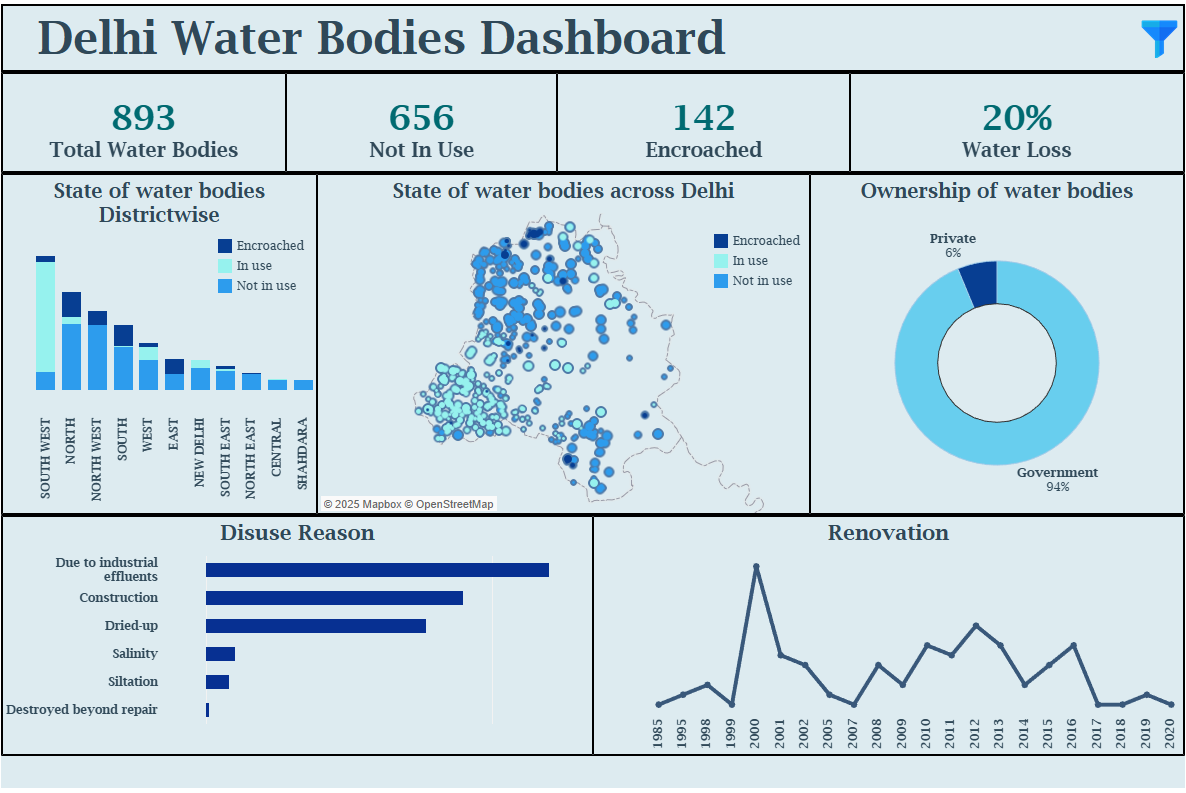

The dashboard page shown, as its layout file describes it:
{"tool":"tableau","page":{"name":"Final Dashboard","canvas":[1200,800],"ordinal":1},"visuals":[{"type":"text","box":[10,10,1180,64]},{"type":"dashboard-object","box":[1145,24,43,38]},{"type":"worksheet","title":"Total Water Bodies","mark":"Automatic","box":[9,77,284,99]},{"type":"worksheet","title":"Water bodies not in use","mark":"Automatic","box":[293,77,271,99]},{"type":"worksheet","title":"Encroached","mark":"Automatic","box":[564,77,293,99]},{"type":"worksheet","title":"Storage Loss%","mark":"Automatic","box":[857,77,334,99]},{"type":"worksheet","title":"Water Bodies Districtwise","mark":"Automatic","rows":["unique_id"],"cols":["District Name"],"box":[9,178,315,340]},{"type":"worksheet","title":"Geographic water bodies","mark":"Automatic","rows":["latitude_dec"],"cols":["longitude_dec"],"box":[324,178,493,340]},{"type":"worksheet","title":"Ownership","mark":"Pie","rows":["Calculation_828943825735376898","Calculation_828943825735376898"],"box":[817,178,374,340]},{"type":"legend","title":"Geographic water bodies","param":"[federated.06ms7qa0m6ogpw10tyopm1ws3jyo].[none:Calculation_1138003349924741132:n","box":[718,220,101,86]},{"type":"filter","title":"Water Bodies Districtwise","param":"[federated.06ms7qa0m6ogpw10tyopm1ws3jyo].[Action (Use)]","box":[1059,221,131,89]},{"type":"legend","title":"Water Bodies Districtwise","param":"[federated.06ms7qa0m6ogpw10tyopm1ws3jyo].[none:Calculation_1138003349924741132:n","box":[222,225,102,78]},{"type":"filter","title":"Water Bodies Districtwise","param":"[federated.06ms7qa0m6ogpw10tyopm1ws3jyo].[none:District Name:nk]","box":[1059,310,131,52]},{"type":"filter","title":"Water Bodies Districtwise","param":"[federated.06ms7qa0m6ogpw10tyopm1ws3jyo].[Action (Ownership)]","box":[1059,362,131,52]},{"type":"worksheet","title":"Disuse Reason","mark":"Bar","rows":["scheme_status_reason_name"],"cols":["unique_id"],"box":[9,520,583,239]},{"type":"worksheet","title":"Renovation","mark":"Automatic","rows":["unique_id"],"cols":["renovation_year"],"box":[592,520,599,239]}]}

Visuals, with their boxes in screenshot pixels (x1, y1, x2, y2), scaled from the page's 1200x800 canvas onto the 1186x793 screenshot:
text: <region>10, 10, 1176, 73</region>
dashboard-object: <region>1132, 24, 1174, 61</region>
"Total Water Bodies" worksheet: <region>9, 76, 290, 174</region>
"Water bodies not in use" worksheet: <region>290, 76, 557, 174</region>
"Encroached" worksheet: <region>557, 76, 847, 174</region>
"Storage Loss%" worksheet: <region>847, 76, 1177, 174</region>
"Water Bodies Districtwise" worksheet: <region>9, 176, 320, 513</region>
"Geographic water bodies" worksheet: <region>320, 176, 807, 513</region>
"Ownership" worksheet (Pie marks): <region>807, 176, 1177, 513</region>
"Geographic water bodies" legend: <region>710, 218, 809, 303</region>
"Water Bodies Districtwise" filter: <region>1047, 219, 1176, 307</region>
"Water Bodies Districtwise" legend: <region>219, 223, 320, 300</region>
"Water Bodies Districtwise" filter: <region>1047, 307, 1176, 359</region>
"Water Bodies Districtwise" filter: <region>1047, 359, 1176, 410</region>
"Disuse Reason" worksheet (Bar marks): <region>9, 515, 585, 752</region>
"Renovation" worksheet: <region>585, 515, 1177, 752</region>
